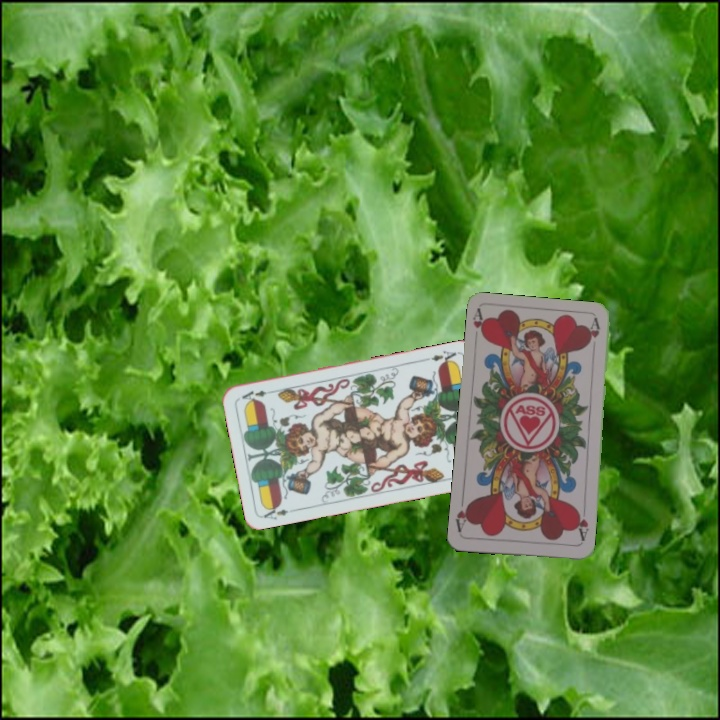EA: (421, 346, 461, 367), (260, 501, 299, 522)
HA: (469, 306, 489, 347), (572, 505, 591, 545)
